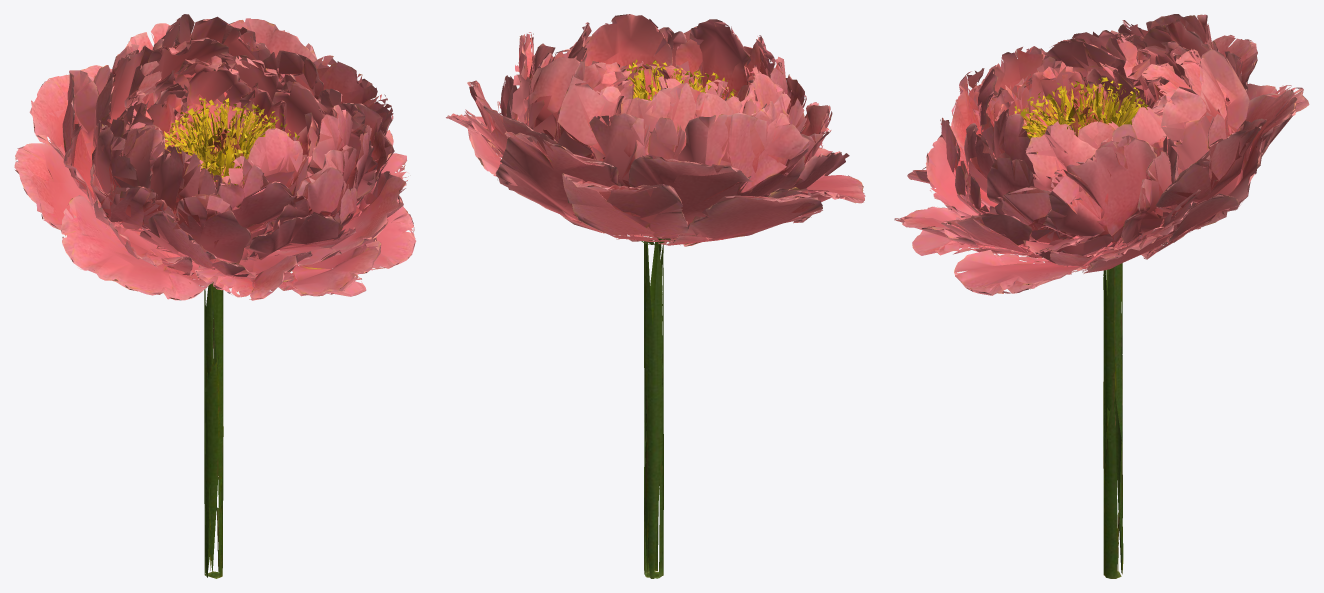
File: peony_coral.glb
3 renders of one model, left to right at view 1: azimuth 30°, elevation 25°; view 2: azimuth 150°, elevation 25°; view 3: azimuth 270°, elevation 25°, orthographic. The views are drawn at different scales.
Visible parts, largest first — view 1: peony_coral; view 2: peony_coral; view 3: peony_coral.
Part boxes in pixels (x1,y1,x2,y2): peony_coral: (14,14,416,578); peony_coral: (446,14,865,578); peony_coral: (894,14,1309,578).
Bounding box in the file's own units: 0.7082 × 1 × 0.7013.
1 material, 1 textured.
